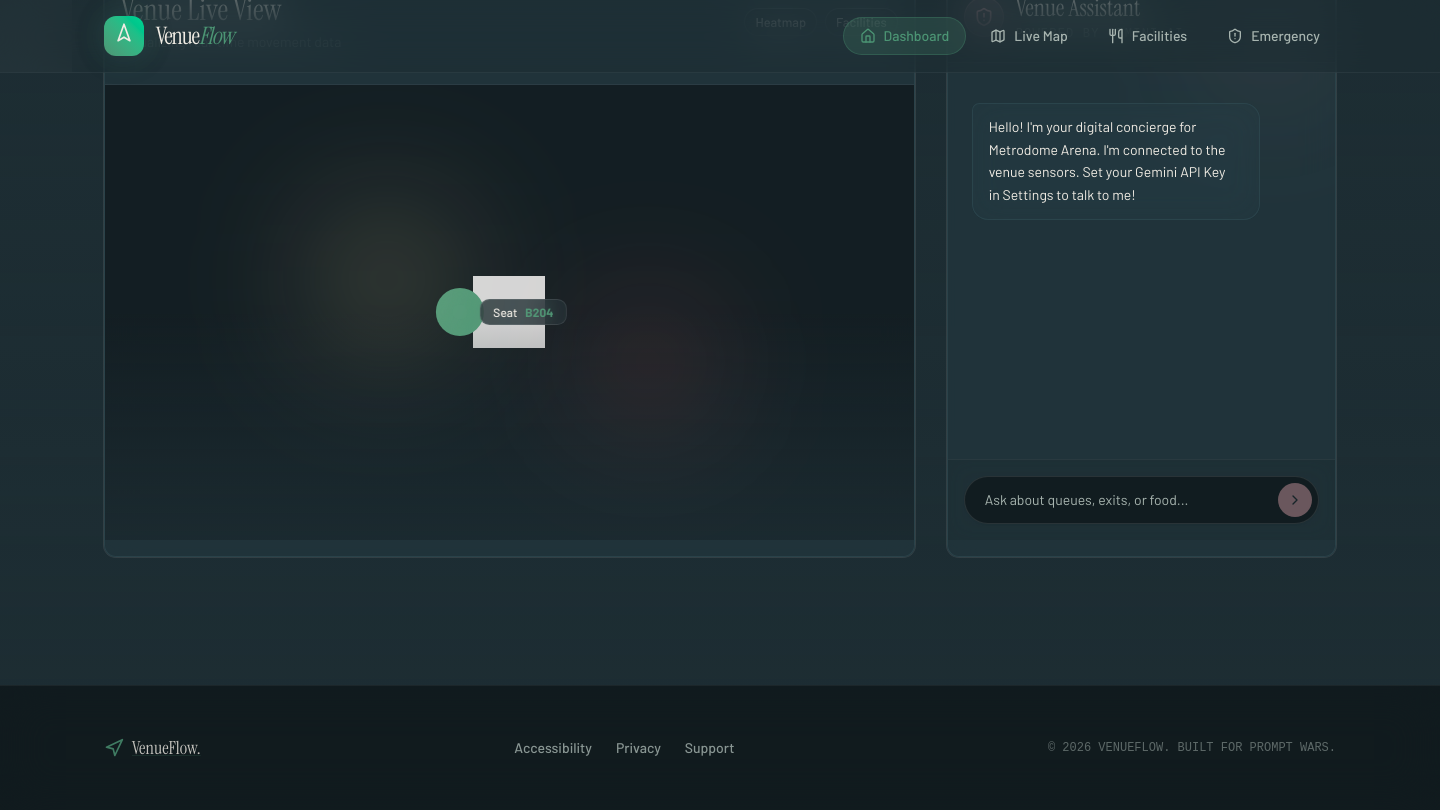
Test: Home page › send button becomes enabled after typing
(page scrolled)
Type "Hello" into the field named "ask the venue assistant" at (1141, 500), box [964,476,1319,524]
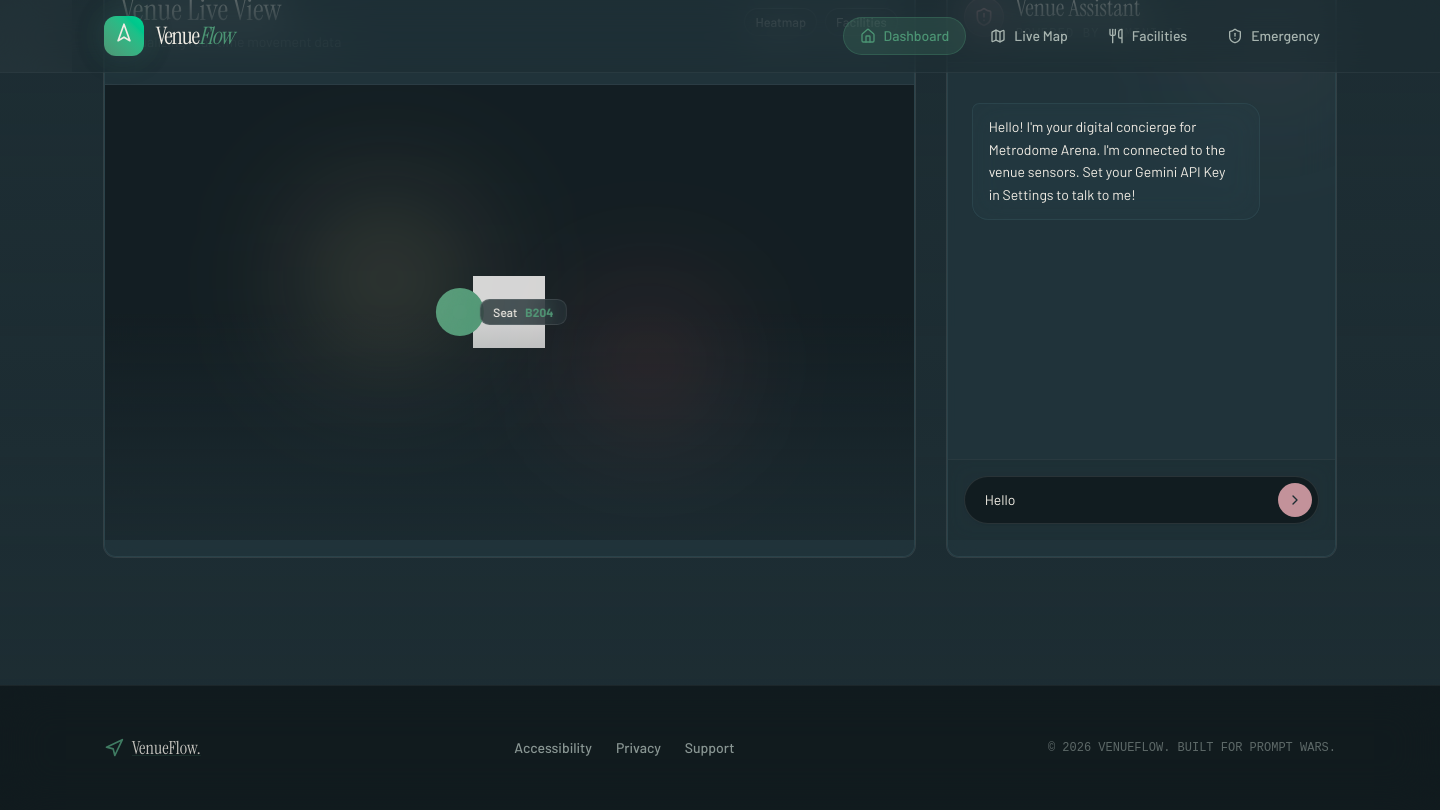
Check: the button named "send message" is enabled, box [1277,482,1313,518]
